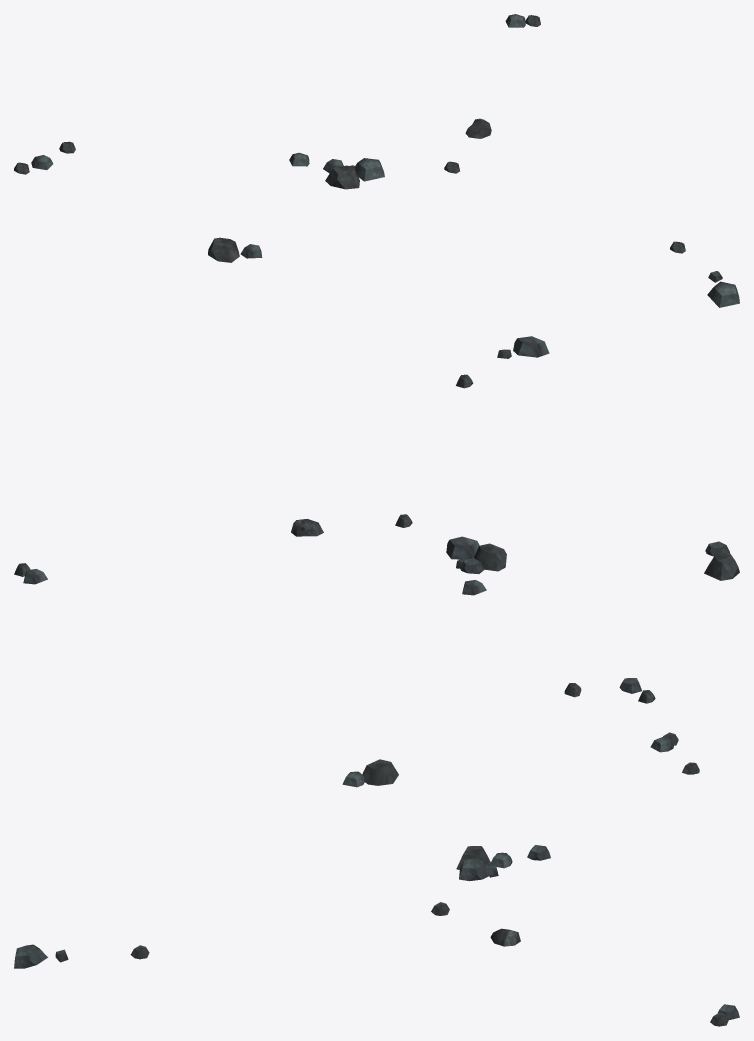
Rendered from menu_town_rubble_12.fbx.
3 views of the same model, one above another, from view 1: azimuth 30°, elevation 25°; view 2: azimuth 150°, elevation 25°; view 3: azimuth 270°, elevation 25° (orthographic). The views are drawn at different scales.
Visible parts, largest first — view 1: Material_#238683587/cliffside; view 2: Material_#238683587/cliffside; view 3: Material_#238683587/cliffside.
Boxes of the visible parts, box(x1,y1,x2,y2) form: Material_#238683587/cliffside: box(14, 14, 739, 307); Material_#238683587/cliffside: box(14, 336, 739, 703); Material_#238683587/cliffside: box(14, 732, 739, 1026).
Size of the model in its own units: 13.12 by 0.5905 by 14.03.
